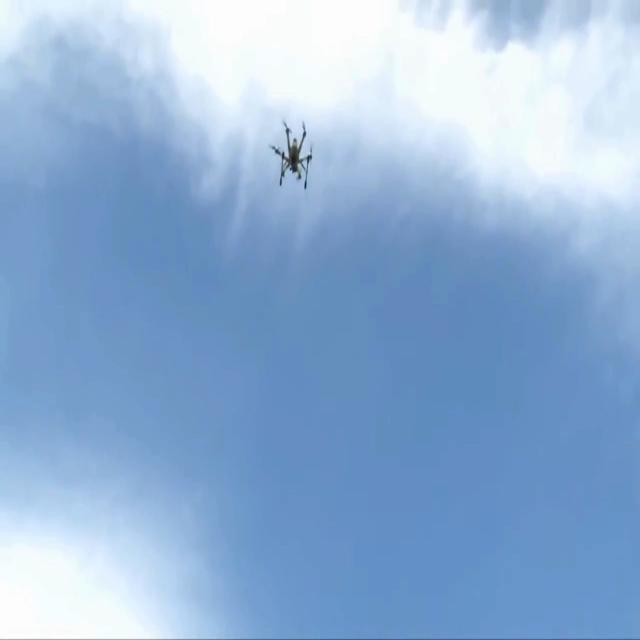drone: (268, 119, 312, 190)
